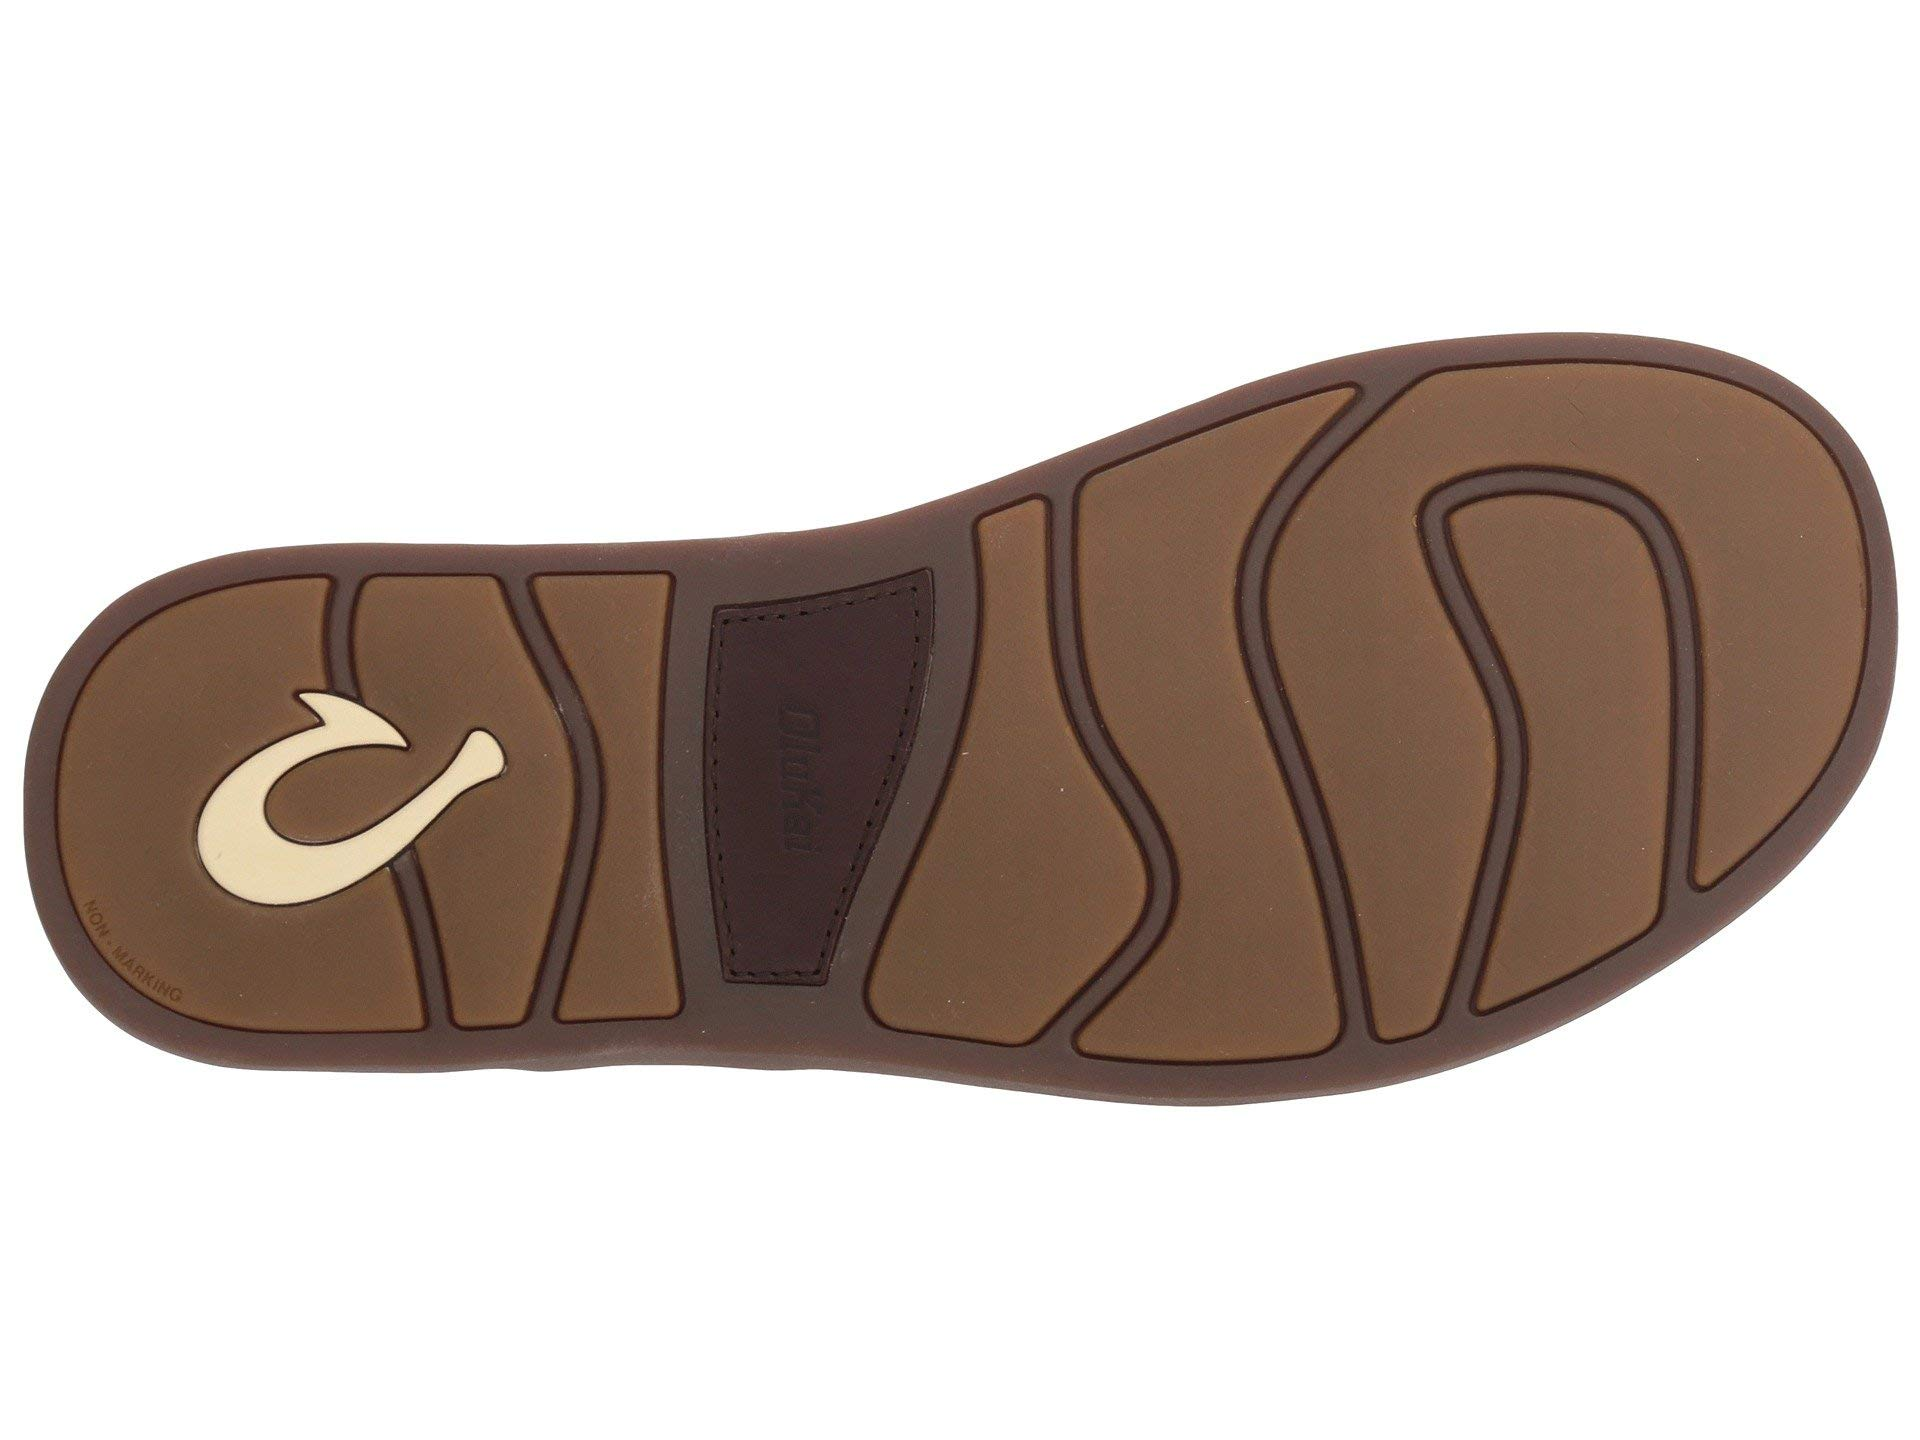line: (996, 355, 1426, 1065), (996, 340, 1406, 1082)
text: (768, 696, 831, 862)
